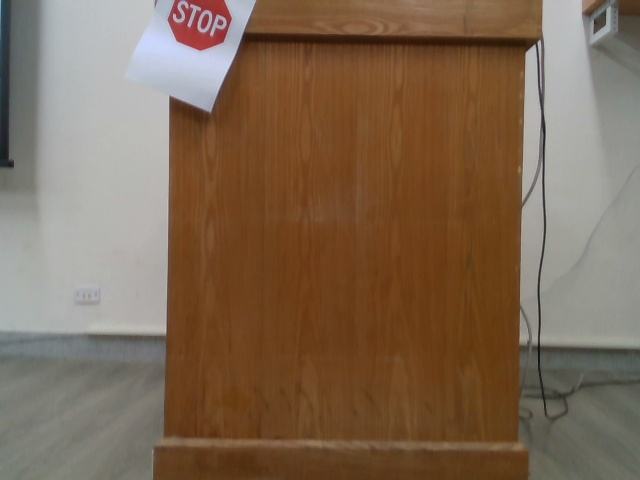stop: (163, 1, 235, 52)
